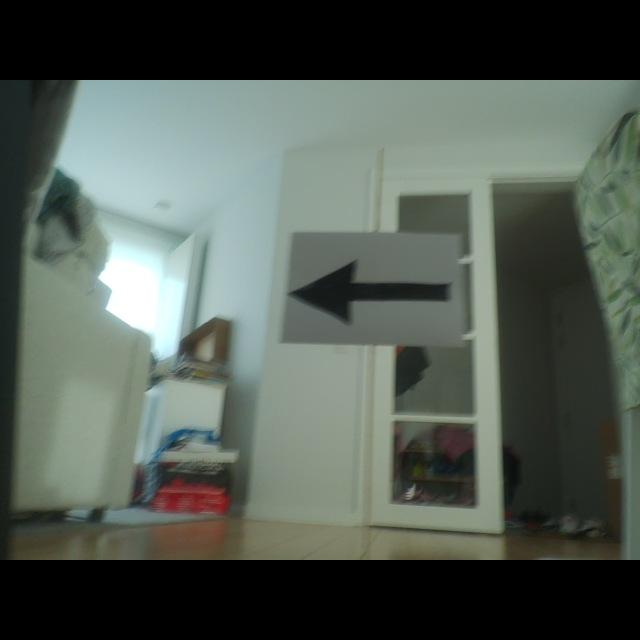balra_nyil: (290, 261, 450, 323)
